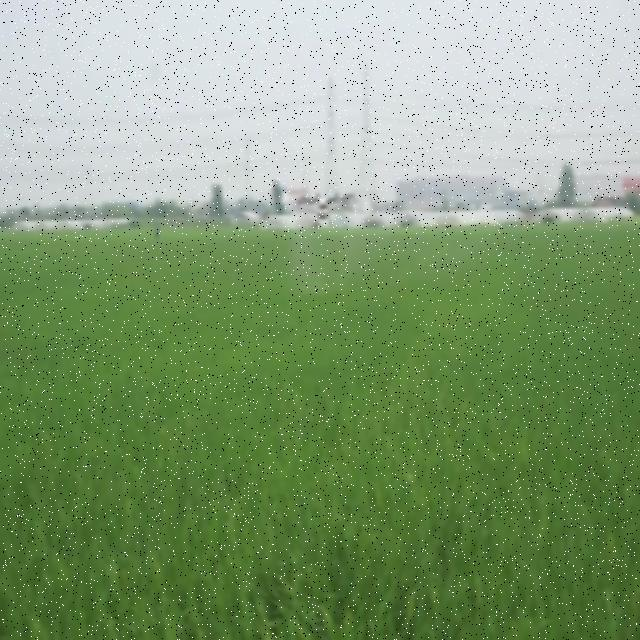UAV: (295, 189, 355, 231)
